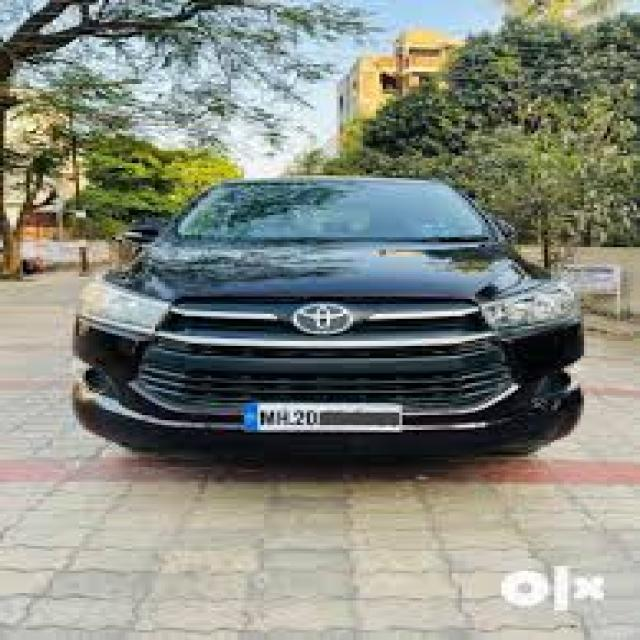light_vehicle: (68, 177, 588, 468)
